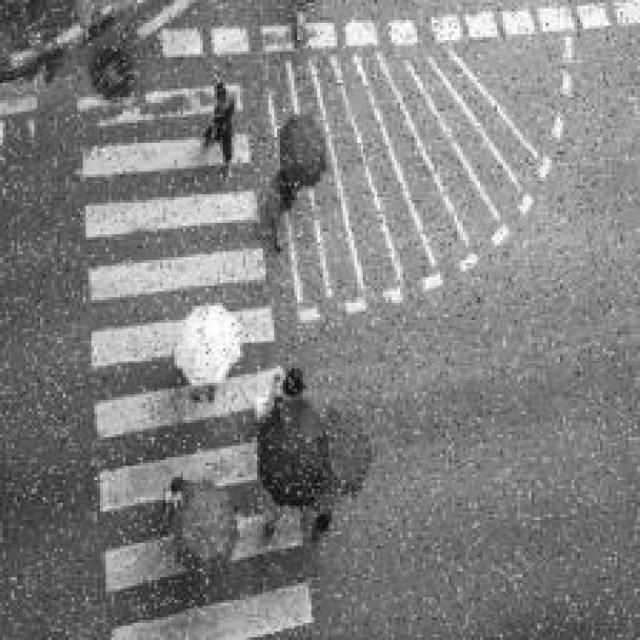zebra: (64, 60, 350, 637)
